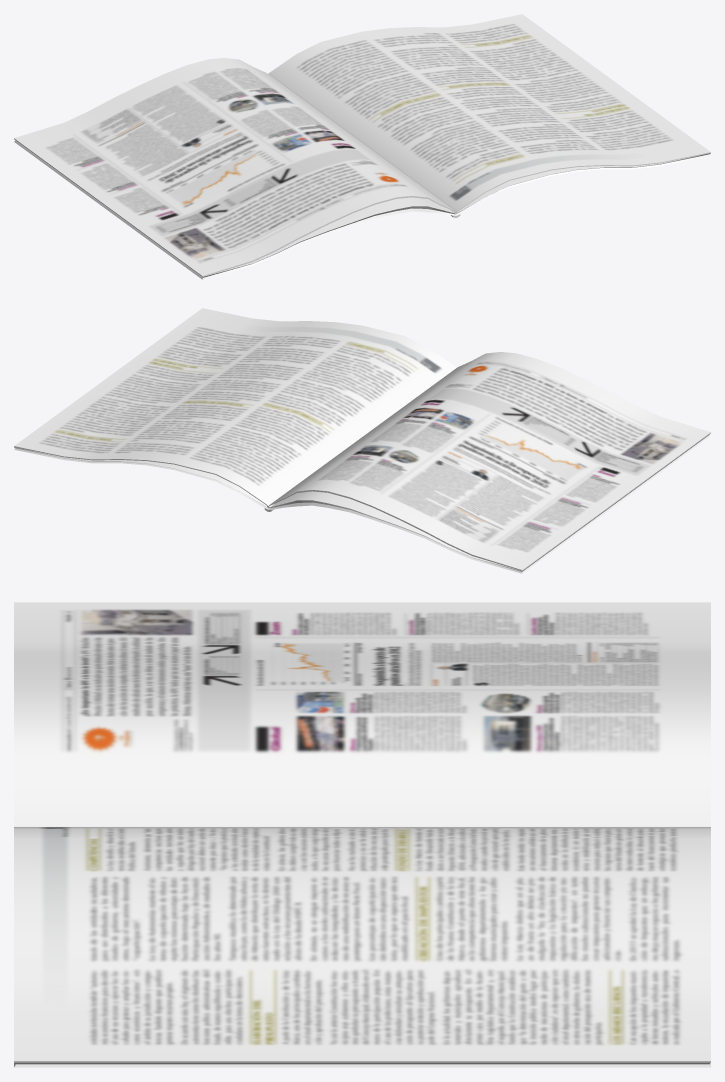
Rendered from Magazine.FBX.
3 renders of one model, top to bottom at view 1: azimuth 30°, elevation 25°; view 2: azimuth 150°, elevation 25°; view 3: azimuth 270°, elevation 25°, orthographic. The views are drawn at different scales.
Visible parts, largest first — view 1: magazine; view 2: magazine; view 3: magazine.
Part boxes in pixels (<box>): magazine: <box>14,14,710,279</box>; magazine: <box>14,308,710,573</box>; magazine: <box>14,602,710,1067</box>.
Size of the model in its own units: 436 by 280 by 28.76.
1 material, 1 textured.
